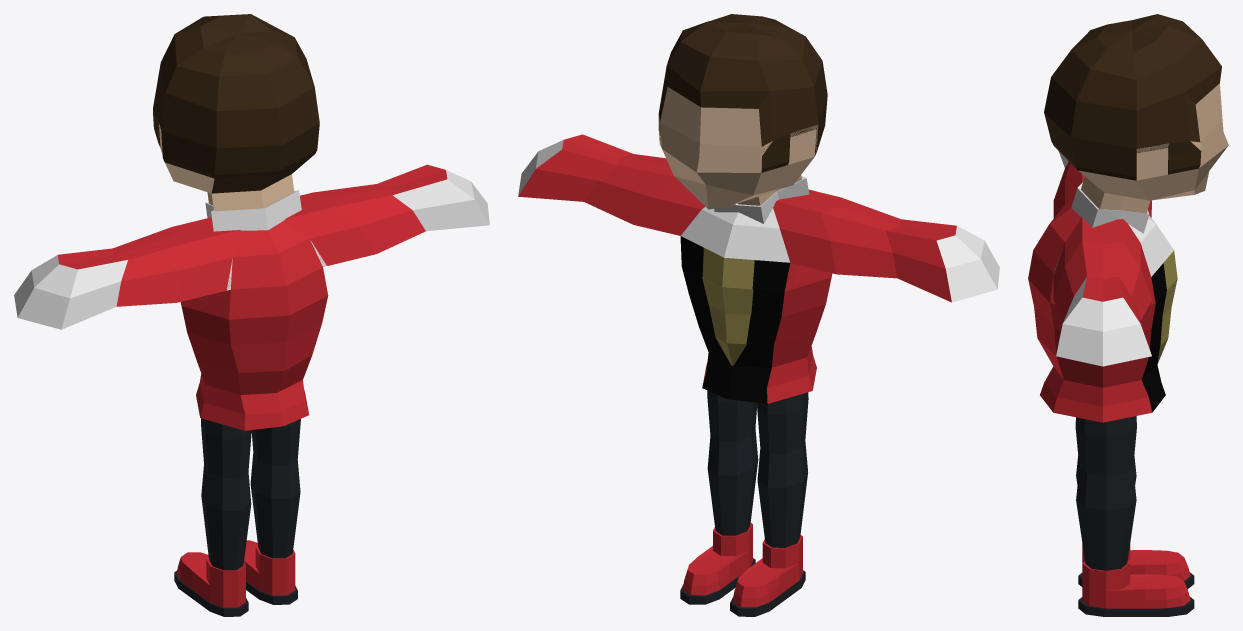
File: personnage.fbx
3 renders of one model, left to right at view 1: azimuth 30°, elevation 25°; view 2: azimuth 150°, elevation 25°; view 3: azimuth 270°, elevation 25°, orthographic.
Parts seen in each view (by area): view 1: Sphere.001, Sphere, Cylinder.001, Cylinder; view 2: Sphere.001, Sphere, Cylinder.001, Cylinder; view 3: Sphere, Sphere.001, Cylinder, Cylinder.001.
Part boxes in pixels (x1,y1,x2,y2): Sphere.001: [14, 164, 489, 430]; Sphere: [153, 14, 319, 231]; Cylinder.001: [174, 418, 251, 616]; Cylinder: [244, 419, 300, 604]; Sphere.001: [518, 134, 999, 403]; Sphere: [658, 14, 827, 223]; Cylinder.001: [730, 392, 808, 616]; Cylinder: [680, 390, 758, 604]; Sphere: [1044, 14, 1228, 233]; Sphere.001: [1028, 151, 1177, 422]; Cylinder: [1075, 416, 1194, 616]; Cylinder.001: [1076, 455, 1194, 589].
Size of the model in its own units: 611 by 698 by 223.
